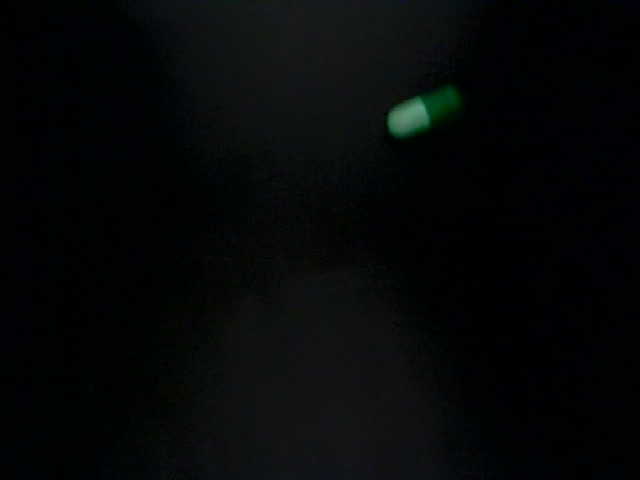YHLJ: (452, 151, 553, 218)
